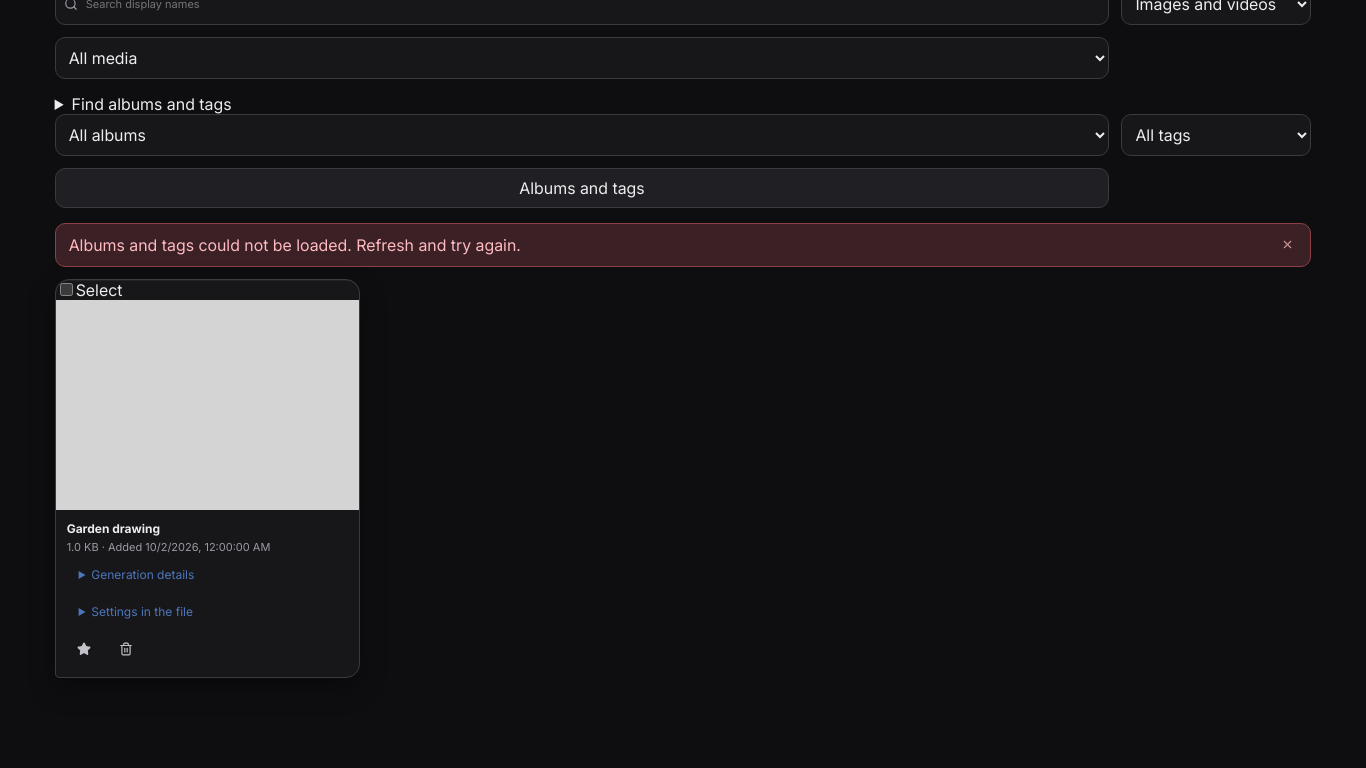
Test case: retries an uncertain Trash response with the identical frozen command
(page scrolled)
Click the button named "Move Garden drawing to Recently Deleted": click(126, 649) [109,632,143,666]
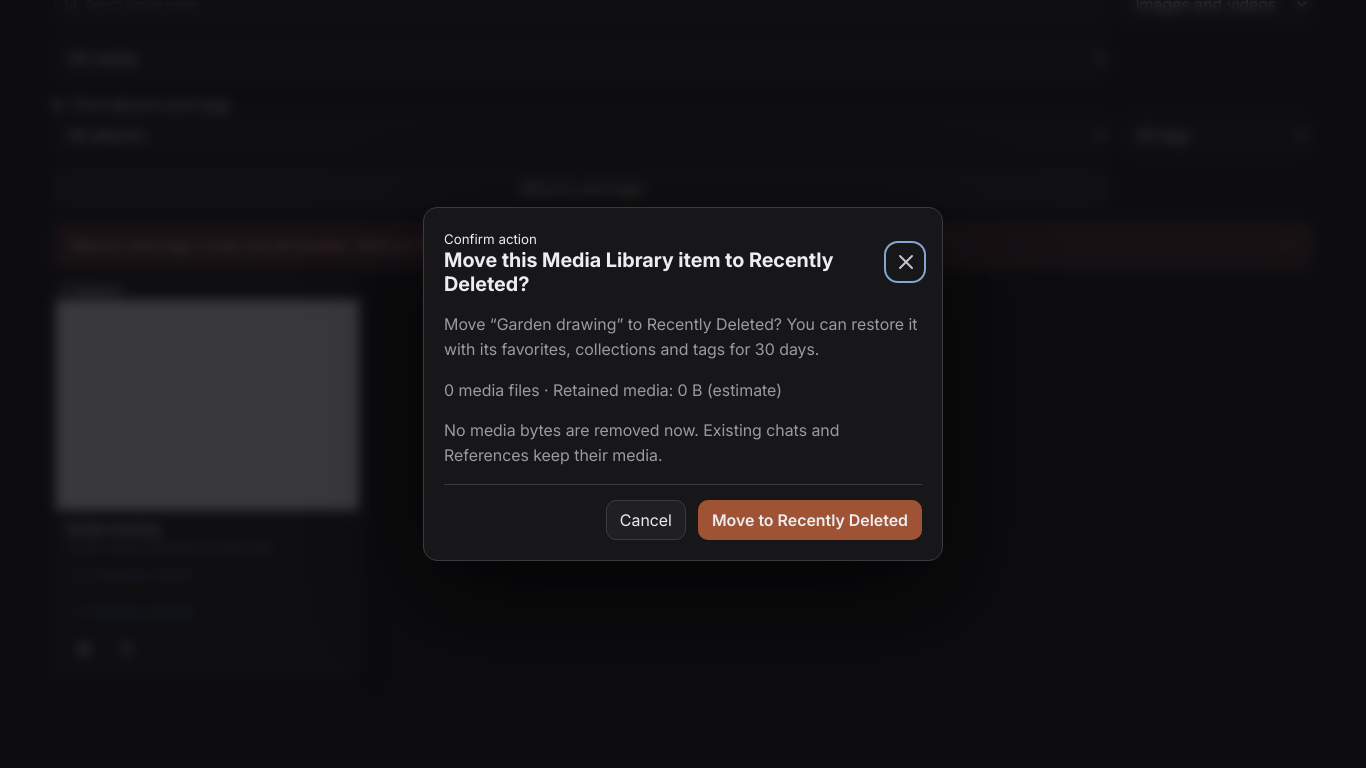
Click the button "Move to Recently Deleted": click(810, 520) [698,500,922,540]
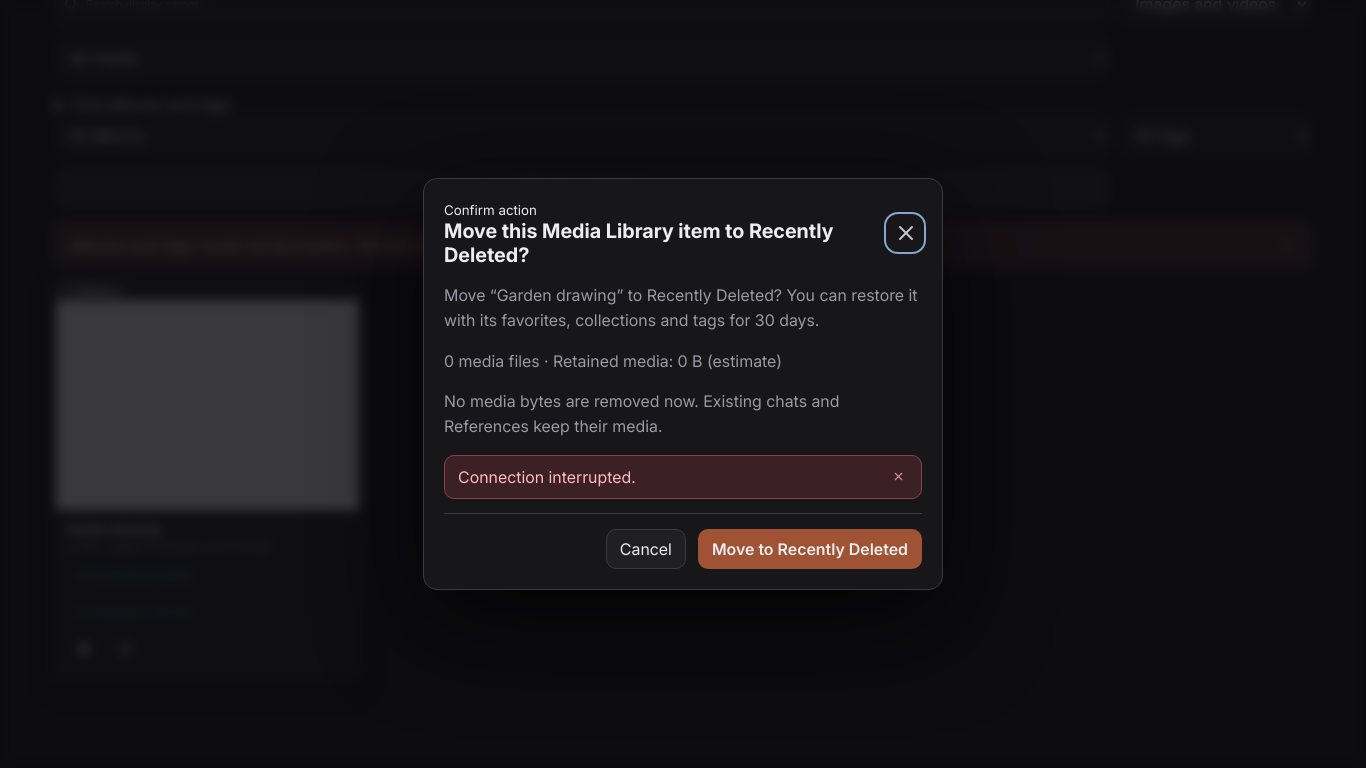
Result: the text "Connection interrupted." is shown at [458,467,636,487]
Click the button "Move to Recently Deleted": click(810, 549) [698,529,922,569]
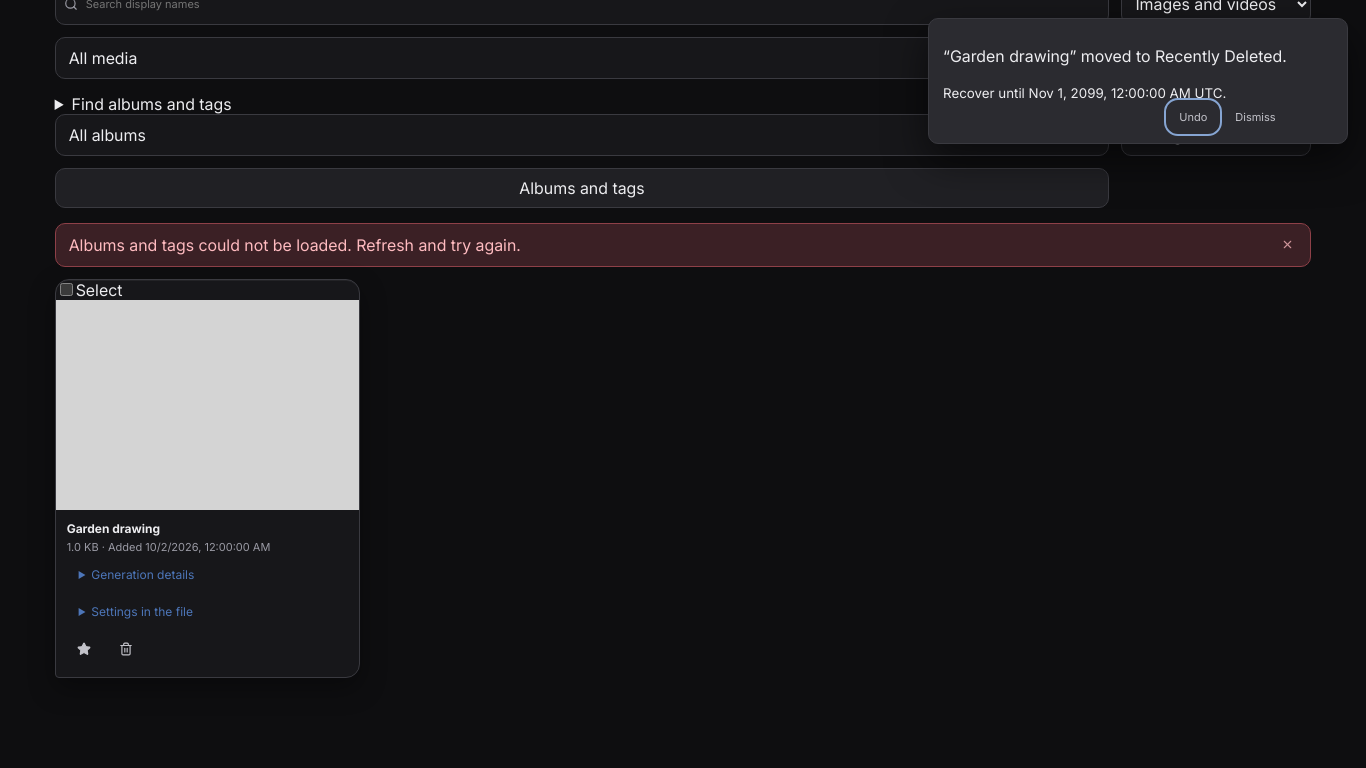
Result: the button "Undo" is shown at [1168,102,1218,132]
